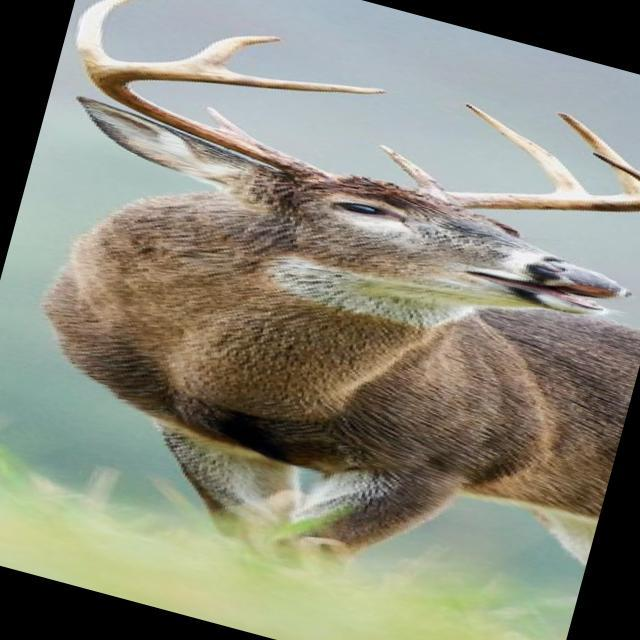L-F: (407, 188, 640, 213)
L-G1: (375, 142, 449, 191)
L-G2: (462, 103, 592, 195)
R-F: (84, 61, 391, 182)
R-G1: (202, 106, 263, 143)
R-G2: (74, 0, 134, 66)
R-G3: (184, 34, 283, 70)
